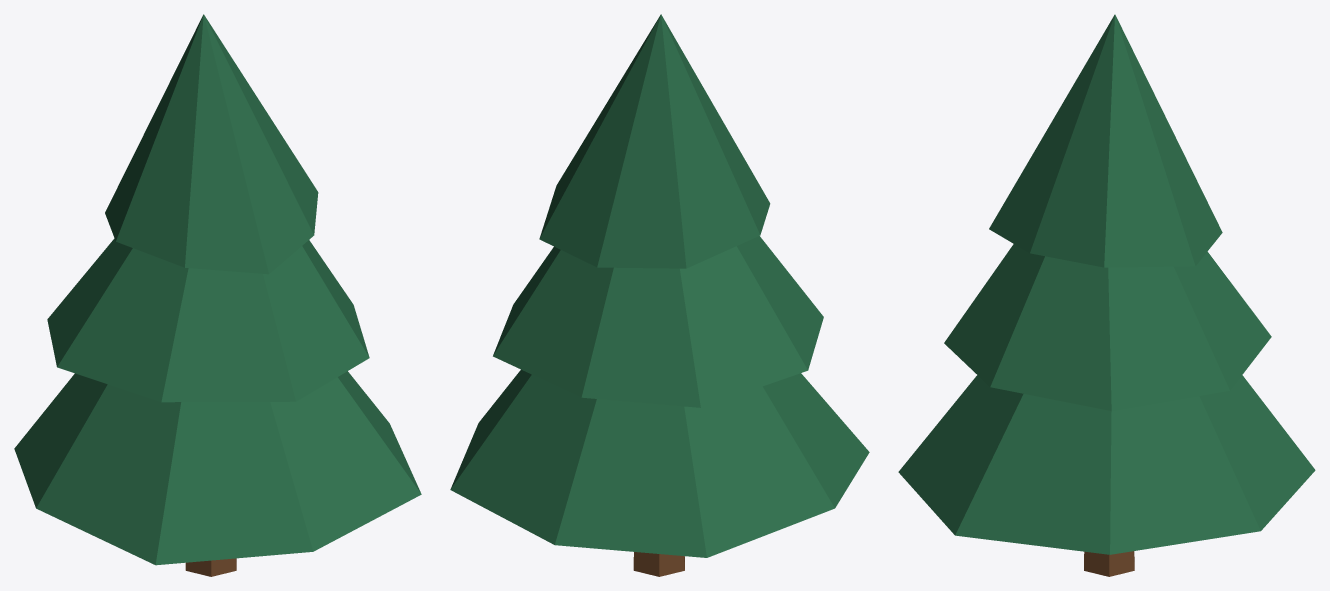
File: tree_pine.obj
3 renders of one model, left to right at view 1: azimuth 30°, elevation 25°; view 2: azimuth 150°, elevation 25°; view 3: azimuth 270°, elevation 25°, orthographic.
Visible parts, largest first — view 1: crown, trunk; view 2: crown, trunk; view 3: crown, trunk.
Part boxes in pixels (box(x1,y1,x2,y2)): crown: box(14, 14, 421, 565); trunk: box(185, 558, 236, 576); crown: box(450, 14, 869, 557); trunk: box(633, 552, 684, 576); crown: box(898, 14, 1315, 554); trunk: box(1084, 551, 1134, 576).
Bounding box in the file's own units: 1.95 × 2.9 × 2.
